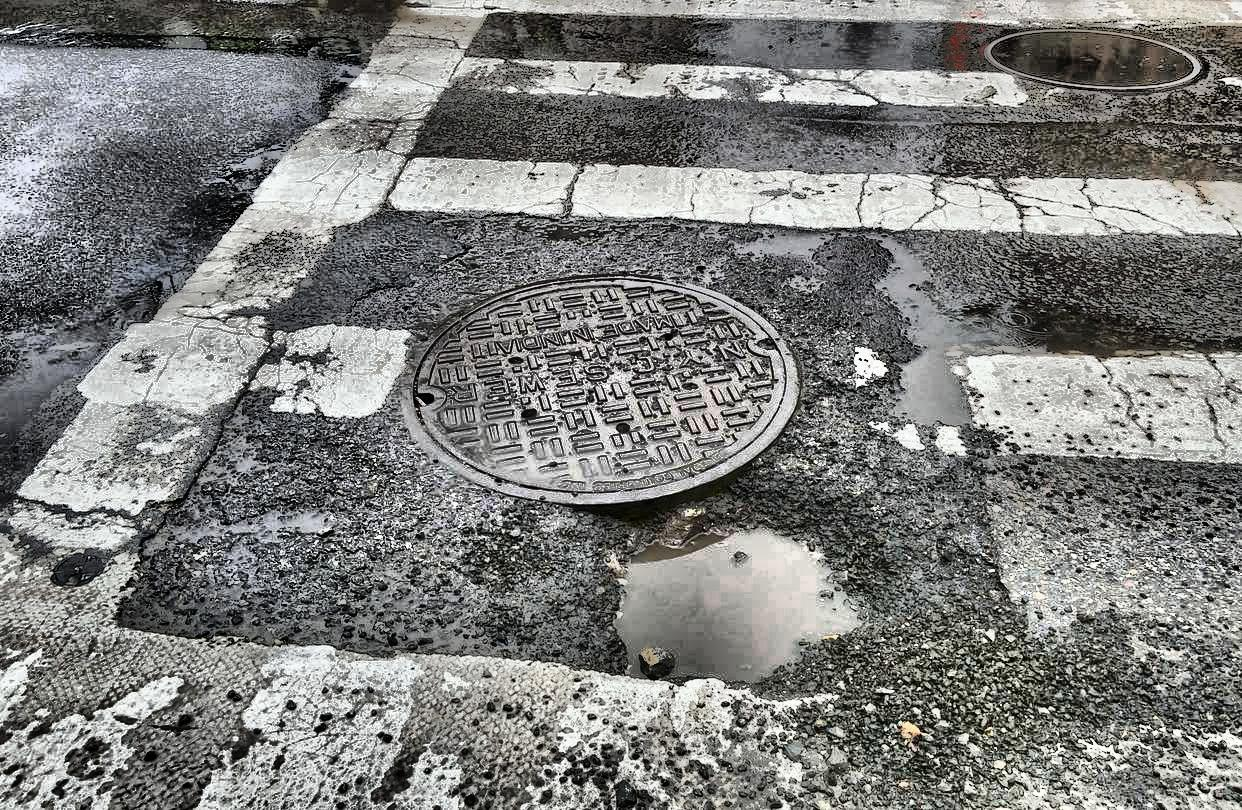pothole: (587, 517, 874, 696)
